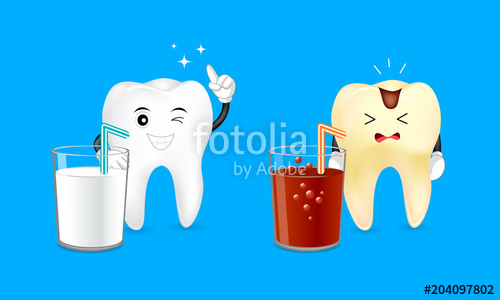glass of milk: (46, 145, 133, 257)
